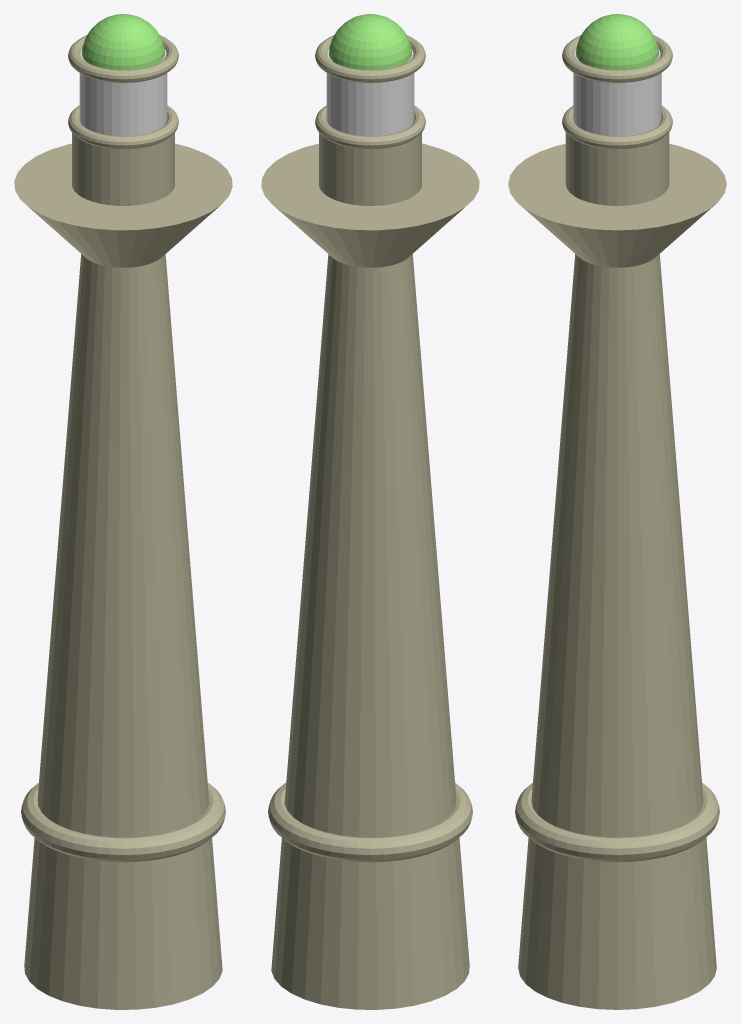
The model's file is lighthouse02.fbx.
3 renders of one model, left to right at view 1: azimuth 30°, elevation 25°; view 2: azimuth 150°, elevation 25°; view 3: azimuth 270°, elevation 25°, orthographic.
Parts seen in each view (by area): view 1: Base, Cylinder, Sphere, Torus; view 2: Base, Cylinder, Sphere, Torus; view 3: Base, Cylinder, Sphere, Torus.
Part boxes in pixels (x1,y1,x2,y2): Base: [14, 105, 232, 1009]; Cylinder: [79, 48, 167, 136]; Sphere: [82, 14, 164, 69]; Torus: [68, 35, 178, 82]; Base: [261, 105, 479, 1009]; Cylinder: [326, 48, 414, 136]; Sphere: [329, 14, 411, 69]; Torus: [315, 35, 425, 82]; Base: [508, 105, 726, 1009]; Cylinder: [573, 49, 661, 136]; Sphere: [576, 14, 658, 69]; Torus: [562, 35, 672, 82].
Bounding box in the file's own units: 2245 × 10760 × 2245.
